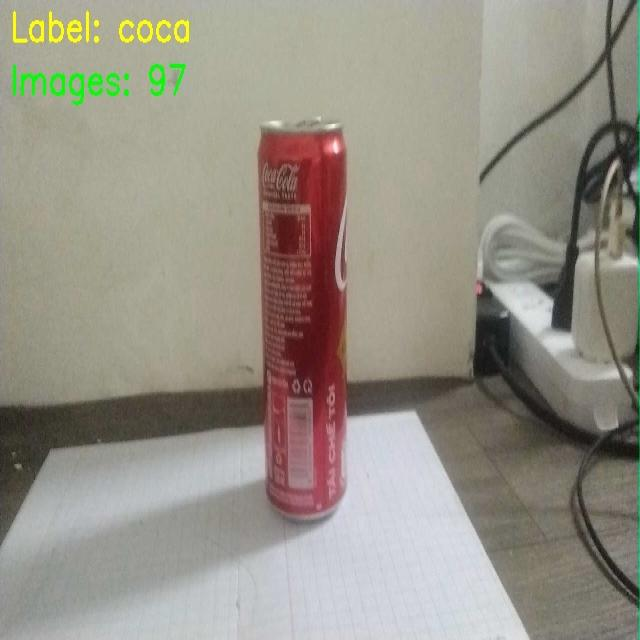Coca: (239, 90, 413, 540)
